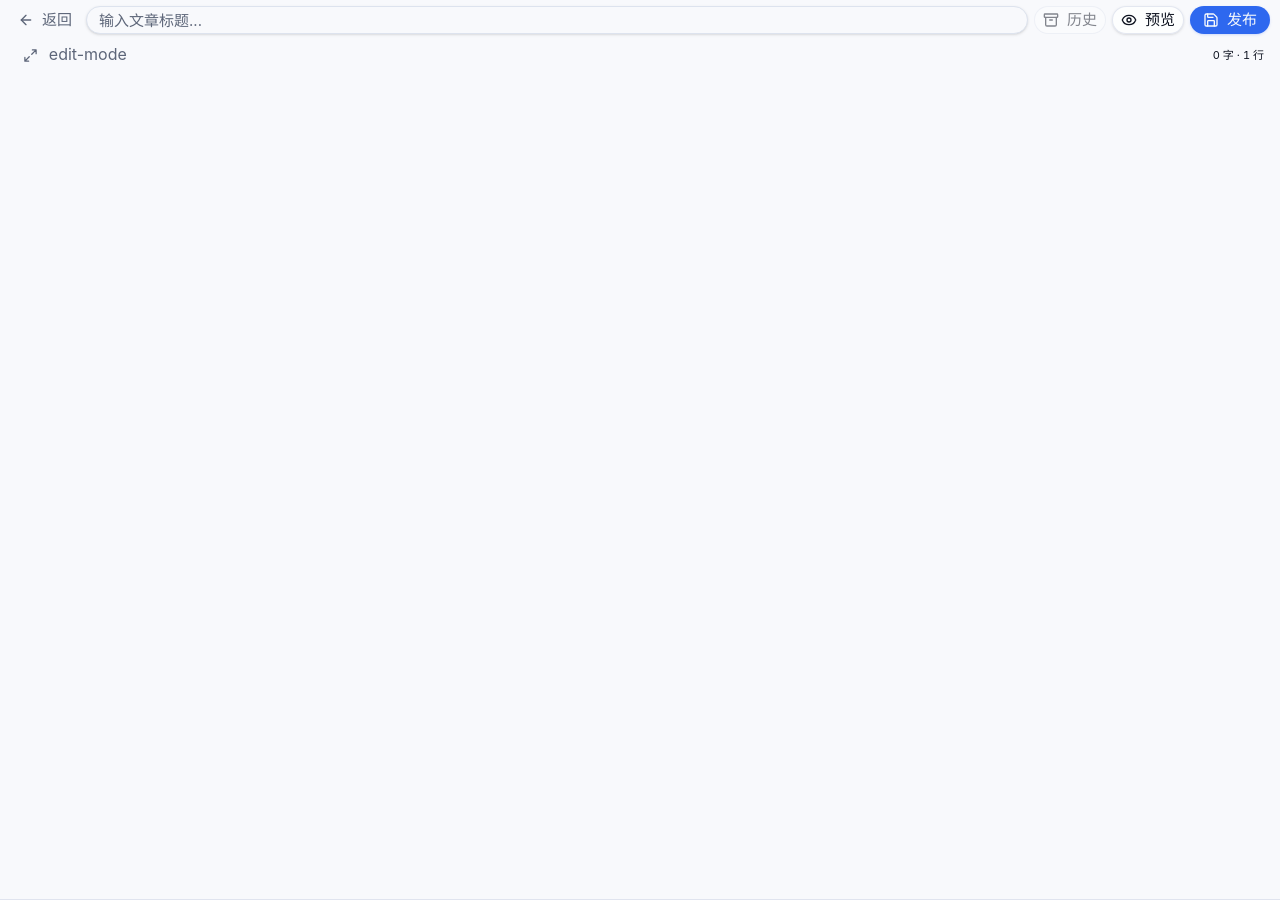
Test case: BlogEditor 工具区折叠/展开 › 点击 toggle 后展开顶部完整卡片，再次点击收缩回去
The width and height of the screenshot is (1280, 900).
Click the button named "展开文章设置" at point(31, 56), box [17,42,45,70]
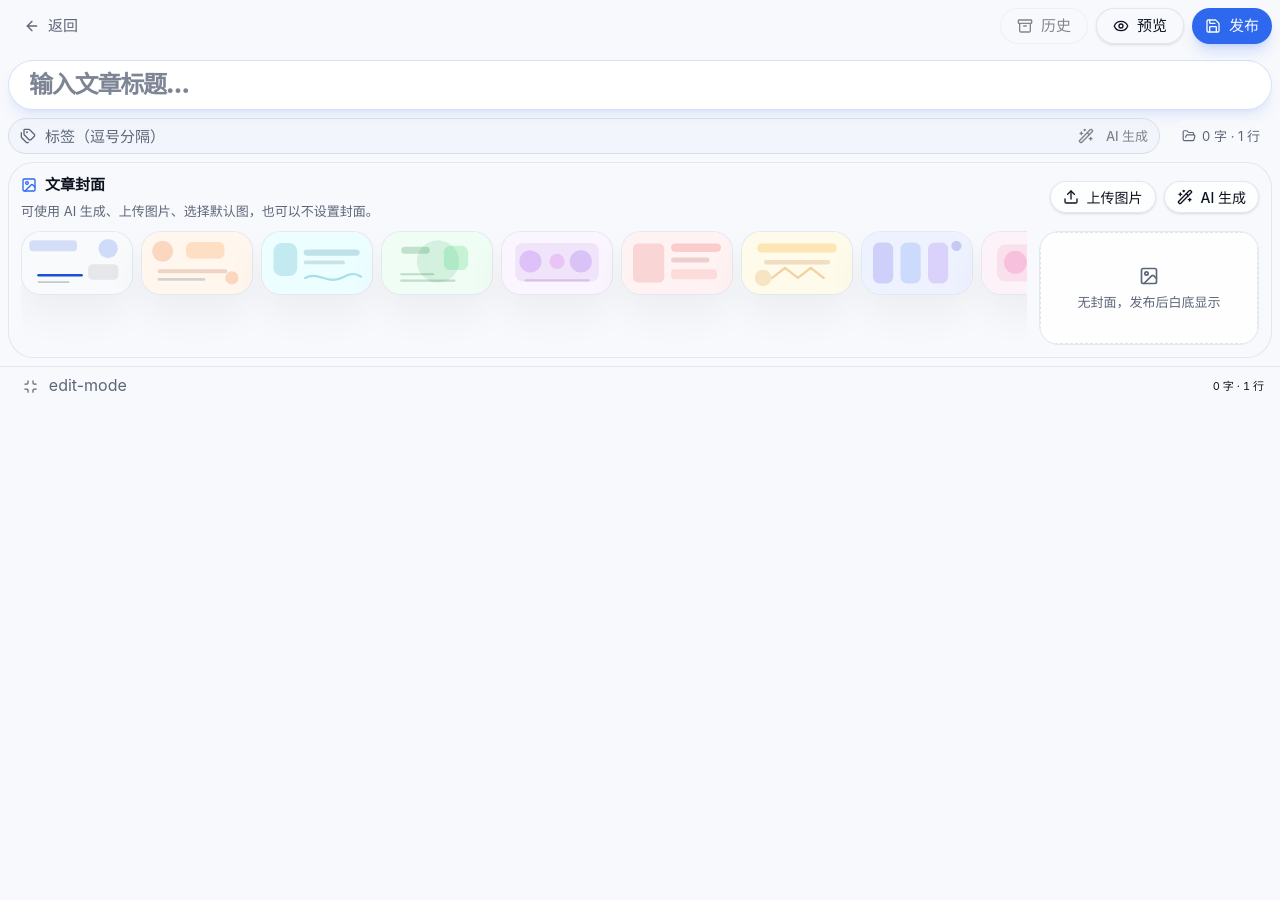
Check: the text "文章封面" is shown, box [21,175,105,195]
Check: the button named "收缩文章设置" is shown
Click the button named "收缩文章设置" at point(31, 387), box [17,373,45,401]
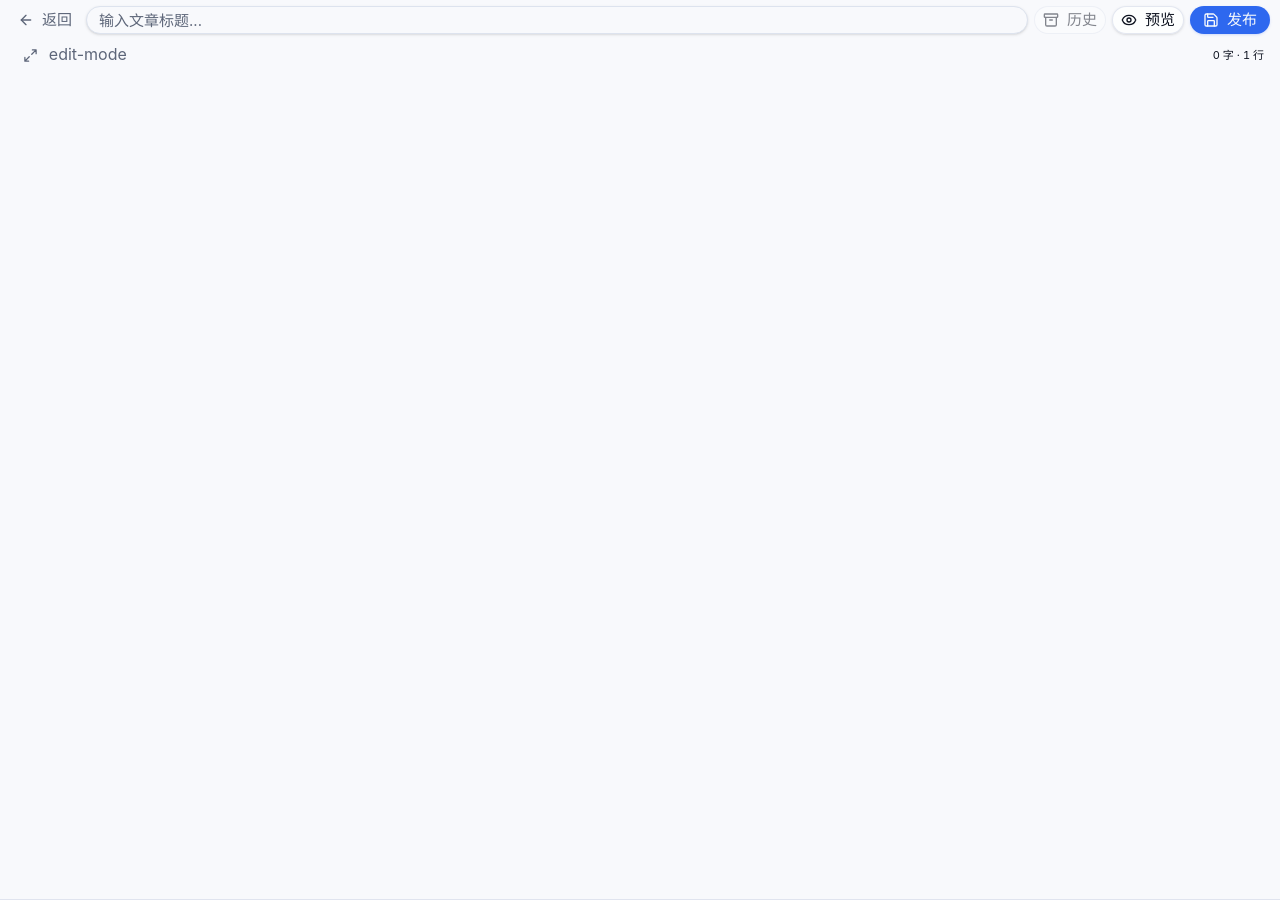
Check: the button named "展开文章设置" is shown, box [17,42,45,70]
Check: the text "文章封面" is gone
